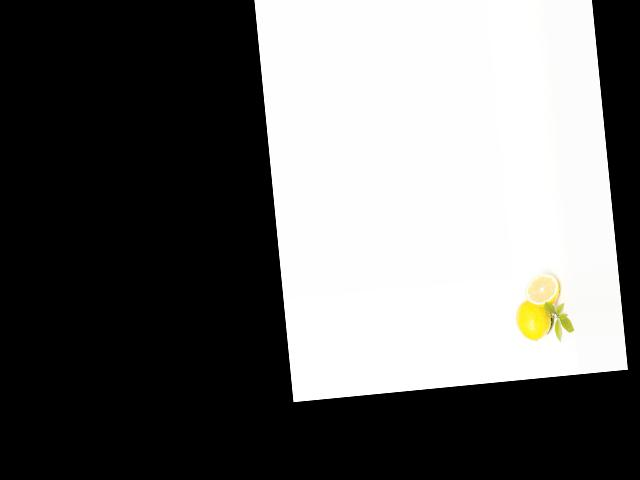lemon: (512, 298, 552, 346)
